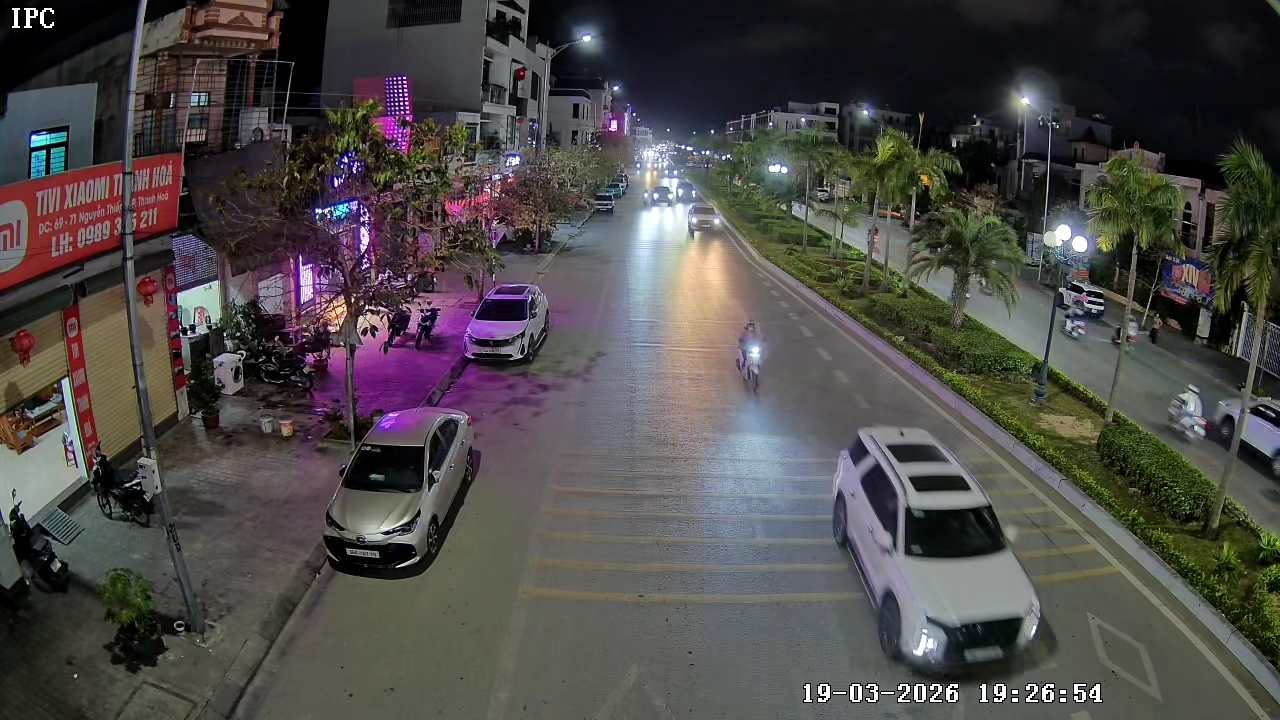car: (832, 425, 1051, 668), (323, 404, 481, 575), (463, 281, 551, 364), (1167, 381, 1245, 453), (686, 204, 722, 234), (650, 184, 674, 209)
motorbike: (734, 320, 766, 396)
